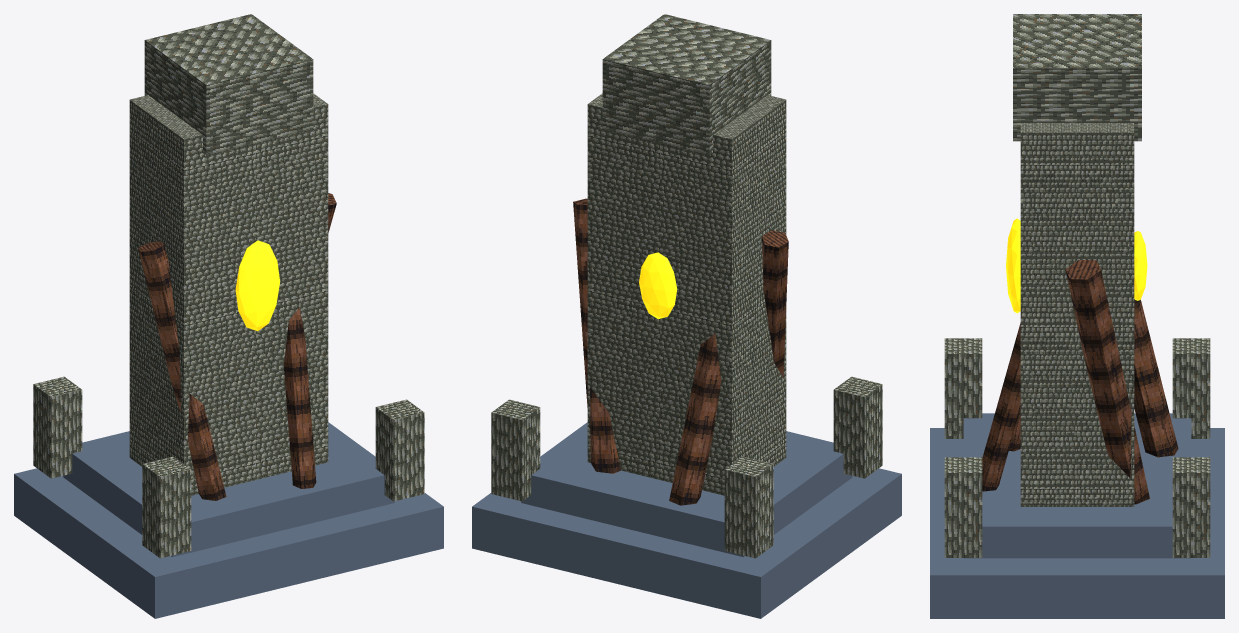
Rendered from monumento.glb.
The picture shows the model from 3 angles, left to right: view 1: azimuth 30°, elevation 25°; view 2: azimuth 150°, elevation 25°; view 3: azimuth 270°, elevation 25°; orthographic projection. The views are drawn at different scales.
Visible parts, largest first — view 1: Cube.002, Cube, Cylinder, Cube.001, Cylinder.003, Cube.003, Cube.004, Cube.005, Cylinder.004, Icosphere; view 2: Cube.002, Cube, Cylinder, Cube.001, Cylinder.002, Cube.005, Cube.006, Cube.003, Cylinder.001, Cylinder.003, Icosphere.001; view 3: Cube.002, Cube, Cube.001, Cylinder, Cylinder.001, Cube.004, Cube.006, Cylinder.002, Cube.003, Cube.005, Cylinder.004, Icosphere (+1 smaller).
Part boxes in pixels (x1,y1,x2,y2): Cube.002: [129, 93, 328, 495]; Cube: [14, 422, 443, 618]; Cylinder: [144, 14, 313, 154]; Cube.001: [63, 424, 394, 557]; Cylinder.003: [138, 241, 226, 500]; Cube.003: [142, 456, 191, 558]; Cube.004: [375, 399, 424, 501]; Cube.005: [33, 376, 82, 478]; Cylinder.004: [283, 307, 316, 488]; Icosphere: [235, 240, 280, 331]; Cube.002: [587, 93, 786, 495]; Cube: [472, 422, 901, 618]; Cylinder: [602, 14, 771, 154]; Cube.001: [521, 424, 852, 557]; Cylinder.002: [669, 334, 721, 505]; Cube.005: [724, 456, 773, 558]; Cube.006: [491, 399, 540, 501]; Cube.003: [833, 376, 882, 478]; Cylinder.001: [573, 198, 620, 473]; Cylinder.003: [762, 230, 788, 377]; Icosphere.001: [639, 252, 677, 319]; Cube.002: [1020, 123, 1134, 506]; Cube: [930, 428, 1224, 618]; Cube.001: [963, 413, 1191, 558]; Cylinder: [1013, 14, 1141, 141]; Cylinder.001: [1065, 260, 1149, 504]; Cube.004: [944, 457, 982, 557]; Cube.006: [1172, 457, 1210, 557]; Cylinder.002: [1134, 299, 1178, 457]; Cube.003: [944, 338, 982, 438]; Cube.005: [1172, 338, 1210, 438]; Cylinder.004: [982, 323, 1020, 491]; Icosphere: [1006, 218, 1020, 313].
Size of the model in its own units: 2.6 by 4.15 by 2.2.
4 materials, 2 textured.
